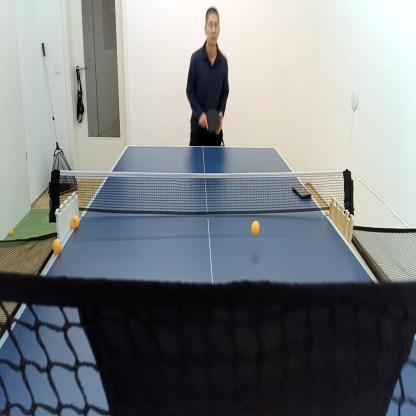Ball: (54, 236, 62, 254), (252, 220, 260, 235), (72, 216, 79, 229), (9, 229, 14, 236)
